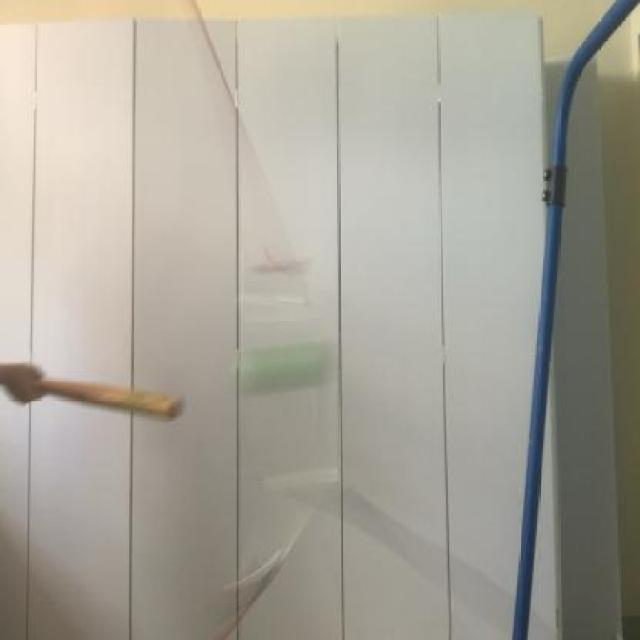baseball: (234, 327, 355, 399)
